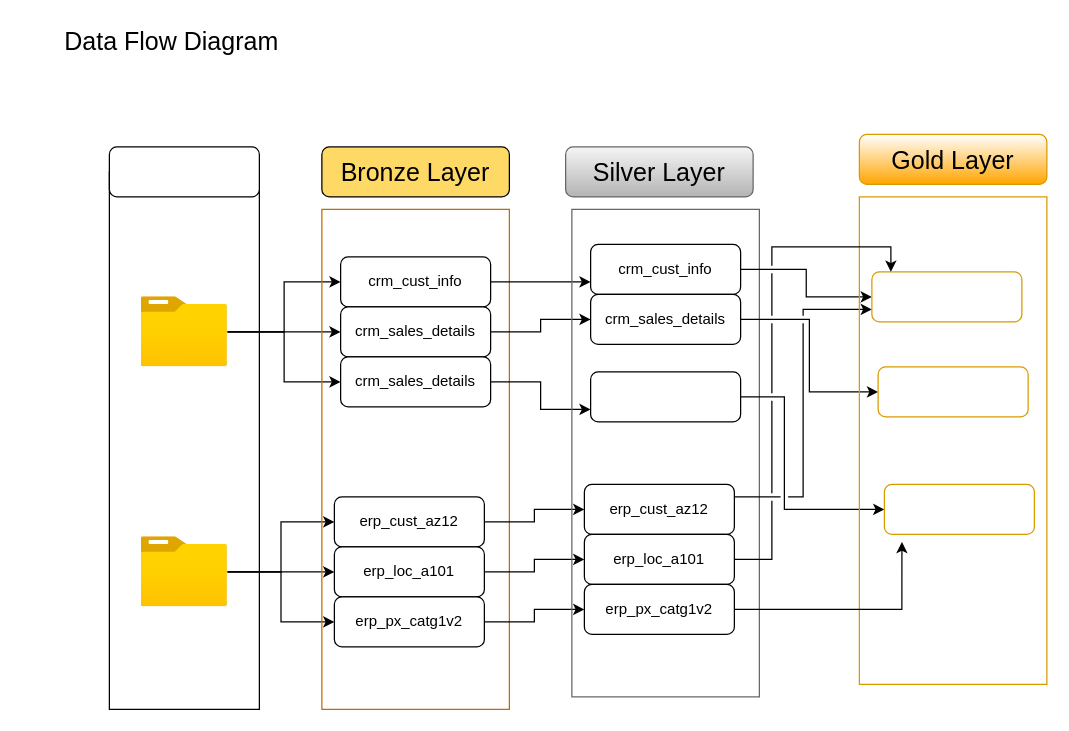
This 1069x731 diagram has some shape labels left out. Each missing label, with the centre of its shape:
"CRM" goes at (x=184, y=331).
"crm_prd_info" goes at (x=665, y=396).
"dim_customers" goes at (x=946, y=296).
"dim_products" goes at (x=958, y=508).
"ERP" goes at (x=184, y=571).
"fact_sales" goes at (x=952, y=391).
"Sources" goes at (x=183, y=171).
